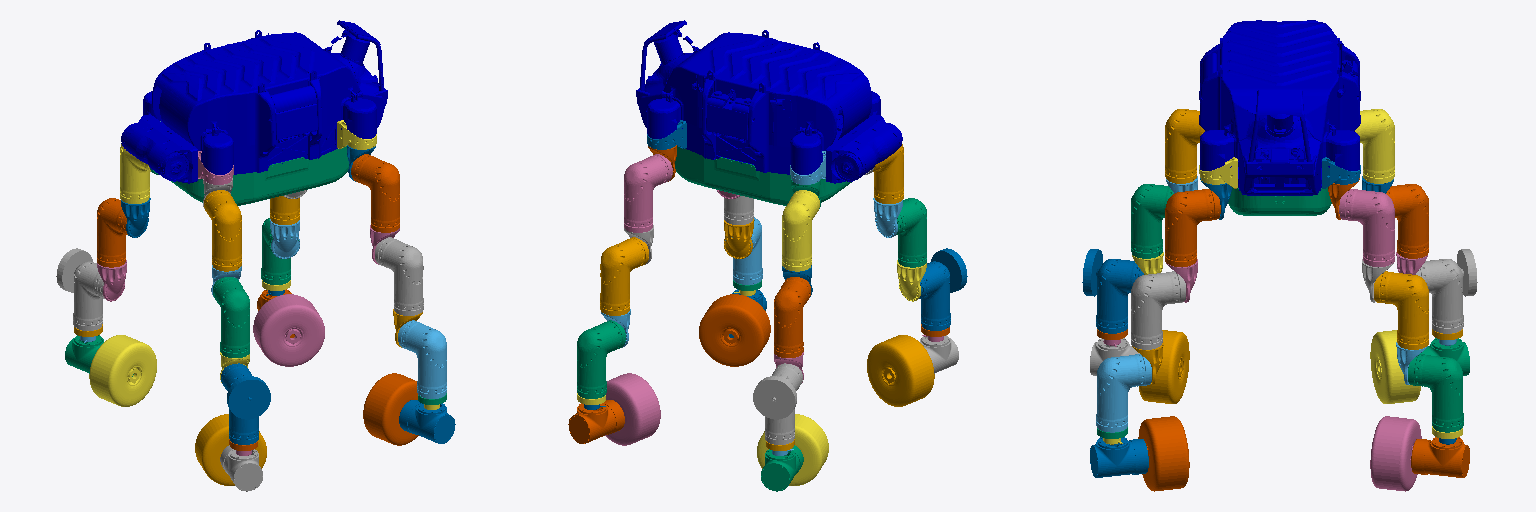
--- Facts derived from the render (not from the file) ---
Views: 3 orthographic renders of the robot side by side, from view 1: azimuth 30°, elevation 25°; view 2: azimuth 150°, elevation 25°; view 3: azimuth 270°, elevation 25°.
Robot: robosim — 47 links, 46 joints (32 revolute, 14 fixed); root link base_link; default pose: all joints at 0.
Links seen in each view (by area): view 1: torso, limb4_link8, sled, limb3_link8, limb2_link6, limb1_link8, limb3_link6, limb1_link6, limb1_link4, limb1_link2, limb2_link2, limb2_link4 (+12 smaller); view 2: torso, limb1_link8, sled, limb2_link8, limb3_link6, limb4_link8, limb2_link6, limb4_link4, limb4_link6, limb4_link2, limb3_link2, limb3_link4 (+12 smaller); view 3: torso, limb2_link6, limb3_link6, limb4_link8, limb1_link8, limb4_link2, limb1_link2, limb4_link4, limb1_link4, limb1_link6, limb4_link6, limb3_link4 (+12 smaller).
Boxes of the visible links, x1,y1,x2,y2 form: torso: [121, 20, 387, 183]; limb4_link8: [253, 294, 324, 366]; sled: [171, 146, 348, 205]; limb3_link8: [89, 335, 156, 406]; limb2_link6: [221, 363, 270, 444]; limb1_link8: [363, 373, 418, 445]; limb3_link6: [56, 248, 104, 330]; limb1_link6: [398, 320, 446, 398]; limb1_link4: [375, 237, 423, 315]; limb1_link2: [351, 154, 399, 232]; limb2_link2: [204, 190, 241, 271]; limb2_link4: [213, 277, 249, 357]; torso: [636, 20, 902, 183]; limb1_link8: [699, 294, 770, 366]; sled: [675, 146, 851, 205]; limb2_link8: [867, 335, 934, 406]; limb3_link6: [753, 363, 802, 444]; limb4_link8: [605, 373, 660, 445]; limb2_link6: [919, 248, 967, 330]; limb4_link4: [600, 237, 648, 315]; limb4_link6: [577, 320, 625, 398]; limb4_link2: [624, 154, 672, 232]; limb3_link2: [782, 190, 819, 271]; limb3_link4: [774, 277, 810, 357]; torso: [1199, 20, 1360, 195]; limb2_link6: [1082, 249, 1143, 333]; limb3_link6: [1416, 249, 1477, 333]; limb4_link8: [1370, 416, 1421, 491]; limb1_link8: [1138, 416, 1189, 491]; limb4_link2: [1339, 189, 1394, 266]; limb1_link2: [1165, 189, 1220, 266]; limb4_link4: [1374, 271, 1428, 349]; limb1_link4: [1131, 271, 1185, 349]; limb1_link6: [1096, 354, 1151, 432]; limb4_link6: [1408, 354, 1463, 432]; limb3_link4: [1386, 184, 1428, 258].
Size in the robot's own frame: 0.9518 by 1.3 by 1.45 metres.
Meshes: 10 distinct files referenced, 46 mesh visuals loaded (10 binary STL).

The robot description file, URDF, robot "robosim":
<robot name="robosim">

  <link name="base_link">
  </link>

  <joint name="base_to_torso" type="fixed">
    <parent link="base_link"/>
    <child link="torso"/>
    <origin xyz="0 0.0 0.0" rpy="3.14159 0.0 0.0"/>
  </joint>

   <link name="torso">
      <inertial>
        <mass value="46.658335" />
        <origin xyz="0.040288 -0.001937 -0.073574" rpy="0 0 0" />
        <inertia ixx="1.272134" ixy="0.008890" ixz="-0.139427" iyy="2.568776" iyz="0.000325" izz="3.086984" />
      </inertial>
      <visual>
        <origin xyz="0 0 0" rpy="0 0 0" />
        <geometry>
           <mesh filename="./stl/robosim_chassis.stl" scale="1 1 1" />
        </geometry>
        <material name="blue">
	      <color rgba="0 0 .8 1" />
        </material>
      </visual>
      <collision group="default">
        <origin rpy="0 0 0" xyz="0 0 0"/>
        <geometry>
           <box size="0.257 0.50 0.238"/>
        </geometry>
      </collision>
      <collision group="other">
        <origin rpy="0 0 0" xyz="0 0 0"/>
        <geometry>
           <box size="0.93 0.230 0.238"/>
        </geometry>
      </collision>
      <collision group="other">
        <origin rpy="0 0 -0.38153" xyz="0.25393 0.075769 0"/>
        <geometry>
           <box size="0.36257 0.23 0.238"/>
        </geometry>
      </collision>
      <collision group="other">
        <origin rpy="0 0 0.38153" xyz="-0.25393 0.075769 0"/>
        <geometry>
           <box size="0.36257 0.23 0.238"/>
        </geometry>
      </collision>
      <collision group="other">
        <origin rpy="0 0 0.38153" xyz="0.25393 -0.075769 0"/>
        <geometry>
           <box size="0.36257 0.23 0.238"/>
        </geometry>
      </collision>
      <collision group="other">
        <origin rpy="0 0 -0.38153" xyz="-0.25393 -0.075769 0"/>
        <geometry>
           <box size="0.36257 0.23 0.238"/>
        </geometry>
      </collision>
      <collision group="other">
        <origin rpy="0.000000 -0.383972 0.000000" xyz="0.417050 0.000000 -0.158640"/>
        <geometry>
          <cylinder length="0.144" radius="0.05"/>
        </geometry>
      </collision>
   </link>

   <link name="sled">
      <inertial>
        <mass value="2.768775" />
        <origin xyz="0.000000 0.000000 0.146762" rpy="0 0 0" />
        <inertia ixx="0.034856" ixy="0.000007" ixz="-0.000002" iyy="0.082427" iyz="0.000000" izz="0.105853" />
      </inertial>
      <visual>
        <origin xyz="0.000000 0 0" rpy="0 0 0" />
        <geometry>
           <mesh filename="./stl/robosim_sled.stl" scale="1 1 1" />
        </geometry>
      </visual>
      <collision group="other">
        <origin rpy="0 0 0" xyz="0 0 0"/>
        <geometry>
          <mesh filename="./stl/robosim_sled_coll.stl" scale="1 1 1" />
        </geometry>
      </collision>
   </link>

   <joint name="sled_joint" type="fixed">
      <origin xyz="0.0 0.0 0.21"  rpy="1.570796 0.00 0.00" />
      <parent link="torso" />
      <child link="sled" />
   </joint>

   <link name="limb1_link0">
      <inertial>
        <mass value="0.000000" />
        <origin xyz="0.000000 0.000000 0.000000" rpy="0 0 0" />
        <inertia ixx="0.000000" ixy="0.000000" ixz="0.000000" iyy="0.000000" iyz="0.000000" izz="0.000000" />
      </inertial>
      <visual>
        <origin xyz="0.000000 0 0" rpy="0 0 0" />
        <geometry>
           <mesh filename="./stl/robosim_fts.stl" scale="1 1 1" />
        </geometry>
      </visual>
      <collision group="other">
        <origin rpy="3.1415 -1.57080 0" xyz="-.025 0 0"/>
        <geometry>
          <cylinder length="0.145" radius="0.05"/>
        </geometry>
      </collision>
   </link>

   <link name="limb1_link1">
      <inertial>
        <mass value="0.428770" />
        <origin xyz="-0.050402 0.012816 0.000000" rpy="0 0 0" />
        <inertia ixx="0.000670" ixy="0.000062" ixz="0.000000" iyy="0.000955" iyz="0.000000" izz=" 0.000726" />
      </inertial>
      <visual>
        <origin xyz="0.000000 0 0" rpy="0 0 0" />
        <geometry>
           <mesh filename="./stl/robosim_pitch_link.stl" scale="1 1 1" />
        </geometry>
      </visual>
      <collision group="other">
        <origin rpy="3.1415 -1.57080 0" xyz="-0.07 0 0"/>
        <geometry>
          <cylinder length="0.07" radius="0.055"/>
        </geometry>
      </collision>
   </link>

   <link name="limb1_link2">
      <inertial>
        <mass value="4.078540" />
        <origin xyz="0.066970 -0.090099 -0.000084" rpy="0 0 0" />
        <inertia ixx="0.010580" ixy="-0.008765" ixz="-0.000002" iyy="0.025014" iyz="0.000007" izz="0.031182" />
      </inertial>
      <visual>
        <origin xyz="0.000000 0 0" rpy="0 0 0" />
        <geometry>
           <mesh filename="./stl/robosim_roll_link.stl" scale="1 1 1" />
        </geometry>
      </visual>
      <collision group="other">
        <origin rpy="3.1415 -1.57080 0" xyz="0.065 -0.12 0"/>
        <geometry>
          <cylinder length="0.24" radius="0.055"/>
        </geometry>
      </collision>
      <collision group="other">
        <origin rpy="1.57080 1.57080 0.0" xyz="0.0 -0.035 0"/>
        <geometry>
          <cylinder length="0.075" radius="0.055"/>
        </geometry>
      </collision>
   </link>

   <link name="limb1_link3">
      <inertial>
        <mass value="0.428770" />
        <origin xyz="-0.050402 0.012816 0.000000" rpy="0 0 0" />
        <inertia ixx="0.000670" ixy="0.000062" ixz="0.000000" iyy="0.000955" iyz="0.000000" izz=" 0.000726" />
      </inertial>
      <visual>
        <origin xyz="0.000000 0 0" rpy="0 0 0" />
        <geometry>
           <mesh filename="./stl/robosim_pitch_link.stl" scale="1 1 1" />
        </geometry>
      </visual>
      <collision group="other">
        <origin rpy="3.1415 -1.57080 0" xyz="-0.07 0 0"/>
        <geometry>
          <cylinder length="0.07" radius="0.055"/>
        </geometry>
      </collision>
   </link>

   <link name="limb1_link4">
      <inertial>
        <mass value="4.078540" />
        <origin xyz="0.066970 -0.090099 -0.000084" rpy="0 0 0" />
        <inertia ixx="0.010580" ixy="-0.008765" ixz="-0.000002" iyy="0.025014" iyz="0.000007" izz="0.031182" />
      </inertial>
      <visual>
        <origin xyz="0.000000 0 0" rpy="0 0 0" />
        <geometry>
           <mesh filename="./stl/robosim_roll_link.stl" scale="1 1 1" />
        </geometry>
      </visual>
      <collision group="other">
        <origin rpy="3.1415 -1.57080 0" xyz="0.065 -0.12 0"/>
        <geometry>
          <cylinder length="0.24" radius="0.055"/>
        </geometry>
      </collision>
      <collision group="other">
        <origin rpy="1.57080 1.57080 0.0" xyz="0.0 -0.035 0"/>
        <geometry>
          <cylinder length="0.075" radius="0.055"/>
        </geometry>
      </collision>
   </link>

   <link name="limb1_link5">
      <inertial>
        <mass value="0.428770" />
        <origin xyz="-0.050402 0.012816 0.000000" rpy="0 0 0" />
        <inertia ixx="0.000670" ixy="0.000062" ixz="0.000000" iyy="0.000955" iyz="0.000000" izz=" 0.000726" />
      </inertial>
      <visual>
        <origin xyz="0.000000 0 0" rpy="0 0 0" />
        <geometry>
           <mesh filename="./stl/robosim_pitch_link.stl" scale="1 1 1" />
        </geometry>
      </visual>
      <collision group="other">
        <origin rpy="3.1415 -1.57080 0" xyz="-0.07 0 0"/>
        <geometry>
          <cylinder length="0.07" radius="0.055"/>
        </geometry>
      </collision>
   </link>

   <link name="limb1_link6">
      <inertial>
        <mass value="4.078540" />
        <origin xyz="0.066970 -0.090099 -0.000084" rpy="0 0 0" />
        <inertia ixx="0.010580" ixy="-0.008765" ixz="-0.000002" iyy="0.025014" iyz="0.000007" izz="0.031182" />
      </inertial>
      <visual>
        <origin xyz="0.000000 0 0" rpy="0 0 0" />
        <geometry>
           <mesh filename="./stl/robosim_roll_link.stl" scale="1 1 1" />
        </geometry>
      </visual>
      <collision group="other">
        <origin rpy="3.1415 -1.57080 0" xyz="0.105 -0.12 0"/>
        <geometry>
          <cylinder length="0.32" radius="0.055"/>
        </geometry>
      </collision>
      <collision group="other">
        <origin rpy="1.57080 1.57080 0.0" xyz="0.0 -0.035 0"/>
        <geometry>
          <cylinder length="0.075" radius="0.055"/>
        </geometry>
      </collision>
   </link>
  
   <link name="limb1_ftadapter_link">
      <inertial>
        <mass value="0.253735" />
        <origin xyz="-0.00531 -0.00060 -0.001873" rpy="0 0 0" />
        <inertia ixx="0.00042" ixy="0.00000" ixz="0.0000" iyy="0.00024" iyz="0.00000" izz="0.00023" />
      </inertial>
      <visual>
         <origin xyz="0 0 0" rpy="0 0 0" />
         <geometry>
            <mesh filename="./stl/robosim_ft_adapter.stl" scale="1 1 1" />
         </geometry>
      </visual>   
   </link>

   <link name="limb1_ft_link">
      <inertial>
        <mass value="0.195418" />
        <origin xyz="-0.000135 0.000118 0.000084" rpy="0 0 0" />
        <inertia ixx="0.000086" ixy="0.000" ixz="0.0000" iyy="0.000056" iyz="0.000000" izz="0.000057" />
      </inertial>
      <visual>
         <origin xyz="0 0 0" rpy="0 0 0" />
         <geometry>
            <mesh filename="./stl/robosim_force_torque_sensor.stl" scale="1 1 1" />
         </geometry>
      </visual>   
   </link>

   <link name="limb1_link7">
      <inertial>
        <mass value="3.1775" />
        <origin xyz="-0.005260 0.042308 0.000088" rpy="0 0 0" />
        <inertia ixx="0.010977" ixy="0.000702" ixz="0.000026" iyy="0.005330" iyz="-0.000028" izz=" 0.011405" />
      </inertial>
      <visual>
        <origin xyz="0.12024 0 0" rpy="0 0 0" />
        <geometry>
           <mesh filename="./stl/robosim_wheel_mount.stl" scale="1 1 1" />
        </geometry>
      </visual>
      <collision group="other">
        <origin rpy="-1.57080 0 0" xyz="0.12024 0.02 0"/>
        <geometry>
          <cylinder length="0.175" radius="0.0545"/>
        </geometry>
      </collision>
   </link>

  <link name="limb1_link8">
    <inertial>
      <mass value="1.499326" />
      <origin xyz="0.0 0.0 -0.000229" rpy="0 0 0" />
      <inertia ixx="0.006378" ixy="0.000000" ixz="0.000000" iyy="0.006377" iyz="0.000000" izz="0.009155" />
     </inertial>
    <visual>
      <origin xyz="0.0 0 0" rpy="0 0 0" />
      <geometry>
         <mesh filename="./stl/robosim_wheel.stl" scale="1 1 1" />
      </geometry>
    </visual>
    <collision group="other">
      <origin xyz="0.0 0 0" rpy="0 0 0" />
      <geometry>
         <cylinder length="0.123" radius="0.12" />
      </geometry>
    </collision>
  </link>

   <joint name="limb1_joint0" type="fixed" >
      <origin xyz="0.29326 0.20940 0.03650"  rpy="0.00000 -1.57080 -0.26180" />
      <parent link="torso" />
      <child link="limb1_link0" />
      <axis xyz="0 0 1" />
      <limit effort="1000.0" lower="-3.4906" upper="3.4906" velocity="0.5"/>
      <dynamics damping="0" friction="0"/>
   </joint>

   <joint name="limb1_joint1" type="revolute">
      <origin xyz="0.17203 0.00000 0.00000"  rpy="3.14159 -0.00000 0.00000" />
      <axis xyz="1 0 0" />
      <parent link="limb1_link0" />
      <child link="limb1_link1" />
      <limit effort="1000.0" lower="-6.283185" upper="6.283185" velocity="0.5"/>
      <dynamics damping="1.000000" friction="10.000000"/>
   </joint>

   <joint name="limb1_joint2" type="revolute">
      <origin xyz="0.00000 0.00000 0.00000"  rpy="0.00000 -0.00000 0.00000" />
      <axis xyz="0 -1 0" />
      <parent link="limb1_link1" />
      <child link="limb1_link2" />
      <limit effort="1000.0" lower="-6.283185" upper="6.283185" velocity="0.5"/>
      <dynamics damping="1.000000" friction="10.000000"/>
   </joint>

   <joint name="limb1_joint3" type="revolute">
      <origin xyz="0.28650 -0.11700 0.00000"  rpy="0.00000 -0.00000 0.00000" />
      <axis xyz="1 0 0" />
      <parent link="limb1_link2" />
      <child link="limb1_link3" />
      <limit effort="1000.0" lower="-6.283185" upper="6.283185" velocity="0.5"/>
      <dynamics damping="1.000000" friction="10.000000"/>
   </joint>

   <joint name="limb1_joint4" type="revolute">
      <origin xyz="0.00000 0.00000 0.00000"  rpy="0.00000 -0.00000 0.00000" />
      <axis xyz="0 -1 0" />
      <parent link="limb1_link3" />
      <child link="limb1_link4" />
      <limit effort="1000.0" lower="-6.283185" upper="6.283185" velocity="0.5"/>
      <dynamics damping="1.000000" friction="10.000000"/>
   </joint>

   <joint name="limb1_joint5" type="revolute">
      <origin xyz="0.28650 -0.11700 0.00000"  rpy="0.00000 -0.00000 0.00000" />
      <axis xyz="1 0 0" />
      <parent link="limb1_link4" />
      <child link="limb1_link5" />
      <limit effort="1000.0" lower="-6.283185" upper="6.283185" velocity="0.5"/>
      <dynamics damping="1.000000" friction="10.000000"/>
   </joint>

   <joint name="limb1_joint6" type="revolute">
      <origin xyz="0.00000 0.00000 0.00000"  rpy="0.00000 -0.00000 0.00000" />
      <axis xyz="0 -1 0" />
      <parent link="limb1_link5" />
      <child link="limb1_link6" />
      <limit effort="1000.0" lower="-6.283185" upper="6.283185" velocity="0.5"/>
      <dynamics damping="1.000000" friction="10.000000"/>
   </joint>
  
   <joint name="limb1_ftadapter_joint" type="fixed">
      <origin xyz="0.20739 -0.121 0.0"  rpy="0.00000 0.00000 0.00000" />
      <axis xyz="1 0 0" />
      <parent link="limb1_link6" />
      <child link="limb1_ftadapter_link" />
   </joint>  

   <joint name="limb1_ft_joint" type="fixed">
      <origin xyz="0.0263755 0.0 0.0"  rpy="0.00000 0.00000 0.00000" />
      <axis xyz="1 0 0" />
      <parent link="limb1_ftadapter_link" />
      <child link="limb1_ft_link" />
   </joint>

   <joint name="limb1_joint7" type="revolute">
      <origin xyz="0.19250 -0.11700 0.00000"  rpy="0.00000 -0.00000 0.00000" />
      <axis xyz="1 0 0" />
      <parent link="limb1_link6" />
      <child link="limb1_link7" />
      <limit effort="1000.0" lower="-6.283185" upper="6.283185" velocity="0.5"/>
      <dynamics damping="1.000000" friction="10.000000"/>
   </joint>

   <joint name="limb1_joint8" type="revolute">
      <origin xyz="0.12024 0.172 0.0"  rpy="-1.57 0.0 0.00" />
      <axis xyz="0 0 1" />
      <parent link="limb1_link7" />
      <child link="limb1_link8" />
      <limit effort="1000.0" lower="-2e19" upper="2e19" velocity="0.5"/>
      <dynamics damping="1.000000" friction="10.000000"/>
   </joint>

   <link name="limb2_link0">
      <inertial>
        <mass value="0.000000" />
        <origin xyz="0.000000 0.000000 0.000000" rpy="0 0 0" />
        <inertia ixx="0.000000" ixy="0.000000" ixz="0.000000" iyy="0.000000" iyz="0.000000" izz="0.000000" />
      </inertial>
      <visual>
        <origin xyz="0.000000 0 0" rpy="0 0 0" />
        <geometry>
           <mesh filename="./stl/robosim_fts.stl" scale="1 1 1" />
        </geometry>
      </visual>
      <collision group="other">
        <origin rpy="3.1415 -1.57080 0" xyz="-.025 0 0"/>
        <geometry>
          <cylinder length="0.145" radius="0.05"/>
        </geometry>
      </collision>
   </link>

   <link name="limb2_link1">
      <inertial>
        <mass value="0.428770" />
        <origin xyz="-0.050402 0.012816 0.000000" rpy="0 0 0" />
        <inertia ixx="0.000670" ixy="0.000062" ixz="0.000000" iyy="0.000955" iyz="0.000000" izz=" 0.000726" />
      </inertial>
      <visual>
        <origin xyz="0.000000 0 0" rpy="0 0 0" />
        <geometry>
           <mesh filename="./stl/robosim_pitch_link.stl" scale="1 1 1" />
        </geometry>
      </visual>
      <collision group="other">
        <origin rpy="3.1415 -1.57080 0" xyz="-0.07 0 0"/>
        <geometry>
          <cylinder length="0.07" radius="0.055"/>
        </geometry>
      </collision>
   </link>

   <link name="limb2_link2">
      <inertial>
        <mass value="4.078540" />
        <origin xyz="0.066970 -0.090099 -0.000084" rpy="0 0 0" />
        <inertia ixx="0.010580" ixy="-0.008765" ixz="-0.000002" iyy="0.025014" iyz="0.000007" izz="0.031182" />
      </inertial>
      <visual>
        <origin xyz="0.000000 0 0" rpy="0 0 0" />
        <geometry>
           <mesh filename="./stl/robosim_roll_link.stl" scale="1 1 1" />
        </geometry>
      </visual>
      <collision group="other">
        <origin rpy="3.1415 -1.57080 0" xyz="0.065 -0.12 0"/>
        <geometry>
          <cylinder length="0.24" radius="0.055"/>
        </geometry>
      </collision>
      <collision group="other">
        <origin rpy="1.57080 1.57080 0.0" xyz="0.0 -0.035 0"/>
        <geometry>
          <cylinder length="0.075" radius="0.055"/>
        </geometry>
      </collision>
   </link>

   <link name="limb2_link3">
      <inertial>
        <mass value="0.428770" />
        <origin xyz="-0.050402 0.012816 0.000000" rpy="0 0 0" />
        <inertia ixx="0.000670" ixy="0.000062" ixz="0.000000" iyy="0.000955" iyz="0.000000" izz=" 0.000726" />
      </inertial>
      <visual>
        <origin xyz="0.000000 0 0" rpy="0 0 0" />
        <geometry>
           <mesh filename="./stl/robosim_pitch_link.stl" scale="1 1 1" />
        </geometry>
      </visual>
      <collision group="other">
        <origin rpy="3.1415 -1.57080 0" xyz="-0.07 0 0"/>
        <geometry>
          <cylinder length="0.07" radius="0.055"/>
        </geometry>
      </collision>
   </link>

   <link name="limb2_link4">
      <inertial>
        <mass value="4.078540" />
        <origin xyz="0.066970 -0.090099 -0.000084" rpy="0 0 0" />
        <inertia ixx="0.010580" ixy="-0.008765" ixz="-0.000002" iyy="0.025014" iyz="0.000007" izz="0.031182" />
      </inertial>
      <visual>
        <origin xyz="0.000000 0 0" rpy="0 0 0" />
        <geometry>
           <mesh filename="./stl/robosim_roll_link.stl" scale="1 1 1" />
        </geometry>
      </visual>
      <collision group="other">
        <origin rpy="3.1415 -1.57080 0" xyz="0.065 -0.12 0"/>
        <geometry>
          <cylinder length="0.24" radius="0.055"/>
        </geometry>
      </collision>
      <collision group="other">
        <origin rpy="1.57080 1.57080 0.0" xyz="0.0 -0.035 0"/>
        <geometry>
          <cylinder length="0.075" radius="0.055"/>
        </geometry>
      </collision>
   </link>

   <link name="limb2_link5">
      <inertial>
        <mass value="0.428770" />
        <origin xyz="-0.050402 0.012816 0.000000" rpy="0 0 0" />
        <inertia ixx="0.000670" ixy="0.000062" ixz="0.000000" iyy="0.000955" iyz="0.000000" izz=" 0.000726" />
      </inertial>
      <visual>
        <origin xyz="0.000000 0 0" rpy="0 0 0" />
        <geometry>
           <mesh filename="./stl/robosim_pitch_link.stl" scale="1 1 1" />
        </geometry>
      </visual>
      <collision group="other">
        <origin rpy="3.1415 -1.57080 0" xyz="-0.07 0 0"/>
        <geometry>
          <cylinder length="0.07" radius="0.055"/>
        </geometry>
      </collision>
   </link>

   <link name="limb2_link6">
      <inertial>
        <mass value="4.078540" />
        <origin xyz="0.066970 -0.090099 -0.000084" rpy="0 0 0" />
        <inertia ixx="0.010580" ixy="-0.008765" ixz="-0.000002" iyy="0.025014" iyz="0.000007" izz="0.031182" />
      </inertial>
      <visual>
        <origin xyz="0.000000 0 0" rpy="0 0 0" />
        <geometry>
           <mesh filename="./stl/robosim_roll_link_w_wheel.stl" scale="1 1 1" />
        </geometry>
      </visual>
      <collision group="other">
        <origin rpy="3.1415 -1.57080 0" xyz="0.105 -0.12 0"/>
        <geometry>
          <cylinder length="0.32" radius="0.055"/>
        </geometry>
      </collision>
      <collision group="other">
        <origin rpy="1.57080 1.57080 0.0" xyz="0.0 -0.035 0"/>
        <geometry>
          <cylinder length="0.075" radius="0.055"/>
        </geometry>
      </collision>
      <collision group="other">
        <origin rpy="1.57080 1.57080 0.0" xyz="0.0 -0.19 0"/>
        <geometry>
          <cylinder length="0.0375" radius="0.080"/>
        </geometry>
      </collision>
   </link>
   
   <link name="limb2_ftadapter_link">
      <inertial>
        <mass value="0.253735" />
        <origin xyz="-0.00531 -0.00060 -0.001873" rpy="0 0 0" />
        <inertia ixx="0.00042" ixy="0.00000" ixz="0.0000" iyy="0.00024" iyz="0.00000" izz="0.00023" />
      </inertial>
      <visual>
         <origin xyz="0 0 0" rpy="0 0 0" />
         <geometry>
            <mesh filename="./stl/robosim_ft_adapter.stl" scale="1 1 1" />
         </geometry>
      </visual>   
   </link>

   <link name="limb2_ft_link">
      <inertial>
        <mass value="0.195418" />
        <origin xyz="-0.000135 0.000118 0.000084" rpy="0 0 0" />
        <inertia ixx="0.000086" ixy="0.000" ixz="0.0000" iyy="0.000056" iyz="0.000000" izz="0.000057" />
      </inertial>
      <visual>
         <origin xyz="0 0 0" rpy="0 0 0" />
         <geometry>
            <mesh filename="./stl/robosim_force_torque_sensor.stl" scale="1 1 1" />
         </geometry>
      </visual>   
   </link>
   
   <link name="limb2_link7">
      <inertial>
        <mass value="3.1775" />
        <origin xyz="-0.005260 0.042308 0.000088" rpy="0 0 0" />
        <inertia ixx="0.010977" ixy="0.000702" ixz="0.000026" iyy="0.005330" iyz="-0.000028" izz=" 0.011405" />
      </inertial>
      <visual>
        <origin xyz="0.12024 0 0" rpy="0 0 0" />
        <geometry>
           <mesh filename="./stl/robosim_wheel_mount.stl" scale="1 1 1" />
        </geometry>
      </visual>
      <collision group="other">
        <origin rpy="-1.57080 0 0" xyz="0.12024 0.02 0"/>
        <geometry>
          <cylinder length="0.175" radius="0.0545"/>
        </geometry>
      </collision>
   </link>

  <link name="limb2_link8">
    <inertial>
      <mass value="1.499326" />
      <origin xyz="0.0 0.0 -0.000229" rpy="0 0 0" />
      <inertia ixx="0.006378" ixy="0.000000" ixz="0.000000" iyy="0.006377" iyz="0.000000" izz="0.009155" />
    </inertial>
    <visual>
      <origin xyz="0.0 0 0" rpy="0 0 0" />
      <geometry>
         <mesh filename="./stl/robosim_wheel.stl" scale="1 1 1" />
      </geometry>
    </visual>
    <collision group="other">
      <origin xyz="0.0 0 0" rpy="0 0 0" />
      <geometry>
         <cylinder length="0.123" radius="0.12" />
      </geometry>
    </collision>
  </link>

   <joint name="limb2_joint0" type="fixed">
      <origin xyz="-0.29326 0.20940 0.03650"  rpy="0.00000 -1.57080 0.26180" />
      <parent link="torso" />
      <child link="limb2_link0" />
      <axis xyz="0 0 1" />
      <limit effort="1000.0" lower="-3.4906" upper="3.4906" velocity="0.5"/>
      <dynamics damping="0" friction="0"/>
   </joint>

   <joint name="limb2_joint1" type="revolute">
      <origin xyz="0.17203 0.00000 0.00000"  rpy="3.14159 -0.00000 0.00000" />
      <axis xyz="1 0 0" />
      <parent link="limb2_link0" />
      <child link="limb2_link1" />
      <limit effort="1000.0" lower="-6.283185" upper="6.283185" velocity="0.5"/>
      <dynamics damping="1.000000" friction="10.000000"/>
   </joint>

   <joint name="limb2_joint2" type="revolute">
      <origin xyz="0.00000 0.00000 0.00000"  rpy="0.00000 -0.00000 0.00000" />
      <axis xyz="0 -1 0" />
      <parent link="limb2_link1" />
      <child link="limb2_link2" />
      <limit effort="1000.0" lower="-6.283185" upper="6.283185" velocity="0.5"/>
      <dynamics damping="1.000000" friction="10.000000"/>
   </joint>

   <joint name="limb2_joint3" type="revolute">
      <origin xyz="0.28650 -0.11700 0.00000"  rpy="0.00000 -0.00000 0.00000" />
      <axis xyz="1 0 0" />
      <parent link="limb2_link2" />
      <child link="limb2_link3" />
      <limit effort="1000.0" lower="-6.283185" upper="6.283185" velocity="0.5"/>
      <dynamics damping="1.000000" friction="10.000000"/>
   </joint>

   <joint name="limb2_joint4" type="revolute">
      <origin xyz="0.00000 0.00000 0.00000"  rpy="0.00000 -0.00000 0.00000" />
      <axis xyz="0 -1 0" />
      <parent link="limb2_link3" />
      <child link="limb2_link4" />
      <limit effort="1000.0" lower="-6.283185" upper="6.283185" velocity="0.5"/>
      <dynamics damping="1.000000" friction="10.000000"/>
   </joint>

   <joint name="limb2_joint5" type="revolute">
      <origin xyz="0.28650 -0.11700 0.00000"  rpy="0.00000 -0.00000 0.00000" />
      <axis xyz="1 0 0" />
      <parent link="limb2_link4" />
      <child link="limb2_link5" />
      <limit effort="1000.0" lower="-6.283185" upper="6.283185" velocity="0.5"/>
      <dynamics damping="1.000000" friction="10.000000"/>
   </joint>
  
   <joint name="limb2_joint6" type="revolute">
      <origin xyz="0.00000 0.00000 0.00000"  rpy="0.00000 -0.00000 0.00000" />
      <axis xyz="0 -1 0" />
      <parent link="limb2_link5" />
      <child link="limb2_link6" />
      <limit effort="1000.0" lower="-6.283185" upper="6.283185" velocity="0.5"/>
      <dynamics damping="1.000000" friction="10.000000"/>
   </joint>

   <joint name="limb2_ftadapter_joint" type="fixed">
      <origin xyz="0.20739 -0.121 0.0"  rpy="0.00000 0.00000 0.00000" />
      <axis xyz="1 0 0" />
      <parent link="limb2_link6" />
      <child link="limb2_ftadapter_link" />
   </joint>  

   <joint name="limb2_ft_joint" type="fixed">
      <origin xyz="0.0263755 0.0 0.0"  rpy="0.00000 0.00000 0.00000" />
      <axis xyz="1 0 0" />
      <parent link="limb2_ftadapter_link" />
      <child link="limb2_ft_link" />
   </joint>

   <joint name="limb2_joint7" type="revolute">
      <origin xyz="0.19250 -0.11700 0.00000"  rpy="0.00000 -0.00000 0.00000" />
      <axis xyz="1 0 0" />
      <parent link="limb2_link6" />
      <child link="limb2_link7" />
      <limit effort="1000.0" lower="-6.283185" upper="6.283185" velocity="0.5"/>
      <dynamics damping="1.000000" friction="10.000000"/>
   </joint>

   <joint name="limb2_joint8" type="revolute">
      <origin xyz="0.12024 0.172 0.0"  rpy="-1.57 0.0 0.00" />
      <axis xyz="0 0 1" />
      <parent link="limb2_link7" />
      <child link="limb2_link8" />
      <limit effort="1000.0" lower="-2e19" upper="2e19" velocity="0.5"/>
      <dynamics damping="1.000000" friction="10.000000"/>
   </joint>


  <link name="limb3_link0">
      <inertial>
        <mass value="0.000000" />
        <origin xyz="0.000000 0.000000 0.000000" rpy="0 0 0" />
        <inertia ixx="0.000000" ixy="0.000000" ixz="0.000000" iyy="0.000000" iyz="0.000000" izz="0.000000" />
      </inertial>
      <visual>
        <origin xyz="0.000000 0 0" rpy="0 0 0" />
        <geometry>
           <mesh filename="./stl/robosim_fts.stl" scale="1 1 1" />
        </geometry>
      </visual>
      <collision group="other">
        <origin rpy="3.1415 -1.57080 0" xyz="-.025 0 0"/>
        <geometry>
          <cylinder length="0.145" radius="0.05"/>
        </geometry>
      </collision>
   </link>

   <link name="limb3_link1">
      <inertial>
        <mass value="0.428770" />
        <origin xyz="-0.050402 0.012816 0.000000" rpy="0 0 0" />
        <inertia ixx="0.000670" ixy="0.000062" ixz="0.000000" iyy="0.000955" iyz="0.000000" izz=" 0.000726" />
      </inertial>
      <visual>
        <origin xyz="0.000000 0 0" rpy="0 0 0" />
        <geometry>
           <mesh filename="./stl/robosim_pitch_link.stl" scale="1 1 1" />
        </geometry>
      </visual>
      <collision group="other">
        <origin rpy="3.1415 -1.57080 0" xyz="-0.07 0 0"/>
        <geometry>
          <cylinder length="0.07" radius="0.055"/>
        </geometry>
      </collision>
   </link>

   <link name="limb3_link2">
      <inertial>
        <mass value="4.078540" />
        <origin xyz="0.066970 -0.090099 -0.000084" rpy="0 0 0" />
        <inertia ixx="0.010580" ixy="-0.008765" ixz="-0.000002" iyy="0.025014" iyz="0.000007" izz="0.031182" />
      </inertial>
      <visual>
        <origin xyz="0.000000 0 0" rpy="0 0 0" />
        <geometry>
           <mesh filename="./stl/robosim_roll_link.stl" scale="1 1 1" />
        </geometry>
      </visual>
      <collision group="other">
        <origin rpy="3.1415 -1.57080 0" xyz="0.065 -0.12 0"/>
        <geometry>
          <cylinder length="0.24" radius="0.055"/>
        </geometry>
      </collision>
      <collision group="other">
        <origin rpy="1.57080 1.57080 0.0" xyz="0.0 -0.035 0"/>
        <geometry>
          <cylinder length="0.075" radius="0.055"/>
        </geometry>
      </collision>
   </link>

   <link name="limb3_link3">
      <inertial>
        <mass value="0.428770" />
        <origin xyz="-0.050402 0.012816 0.000000" rpy="0 0 0" />
        <inertia ixx="0.000670" ixy="0.000062" ixz="0.000000" iyy="0.000955" iyz="0.000000" izz=" 0.000726" />
      </inertial>
      <visual>
        <origin xyz="0.000000 0 0" rpy="0 0 0" />
        <geometry>
           <mesh filename="./stl/robosim_pitch_link.stl" scale="1 1 1" />
        </geometry>
      </visual>
      <collision group="other">
        <origin rpy="3.1415 -1.57080 0" xyz="-0.07 0 0"/>
        <geometry>
          <cylinder length="0.07" radius="0.055"/>
        </geometry>
      </collision>
   </link>

   <link name="limb3_link4">
      <inertial>
        <mass value="4.078540" />
        <origin xyz="0.066970 -0.090099 -0.000084" rpy="0 0 0" />
        <inertia ixx="0.010580" ixy="-0.008765" ixz="-0.000002" iyy="0.025014" iyz="0.000007" izz="0.031182" />
      </inertial>
      <visual>
        <origin xyz="0.000000 0 0" rpy="0 0 0" />
        <geometry>
           <mesh filename="./stl/robosim_roll_link.stl" scale="1 1 1" />
        </geometry>
      </visual>
      <collision group="other">
        <origin rpy="3.1415 -1.57080 0" xyz="0.065 -0.12 0"/>
        <geometry>
          <cylinder length="0.24" radius="0.055"/>
        </geometry>
      </collision>
      <collision group="other">
        <origin rpy="1.57080 1.57080 0.0" xyz="0.0 -0.035 0"/>
        <geometry>
          <cylinder length="0.075" radius="0.055"/>
        </geometry>
      </collision>
   </link>

   <link name="limb3_link5">
      <inertial>
        <mass value="0.428770" />
        <origin xyz="-0.050402 0.012816 0.000000" rpy="0 0 0" />
        <inertia ixx="0.000670" ixy="0.000062" ixz="0.000000" iyy="0.000955" iyz="0.000000" izz=" 0.000726" />
      </inertial>
      <visual>
        <origin xyz="0.000000 0 0" rpy="0 0 0" />
        <geometry>
           <mesh filename="./stl/robosim_pitch_link.stl" scale="1 1 1" />
        </geometry>
      </visual>
      <collision group="other">
        <origin rpy="3.1415 -1.57080 0" xyz="-0.07 0 0"/>
        <geometry>
          <cylinder length="0.07" radius="0.055"/>
        </geometry>
      </collision>
   </link>

   <link name="limb3_link6">
      <inertial>
        <mass value="4.078540" />
        <origin xyz="0.066970 -0.090099 -0.000084" rpy="0 0 0" />
        <inertia ixx="0.010580" ixy="-0.008765" ixz="-0.000002" iyy="0.025014" iyz="0.000007" izz="0.031182" />
      </inertial>
      <visual>
        <origin xyz="0.000000 0 0" rpy="0 0 0" />
        <geometry>
           <mesh filename="./stl/robosim_roll_link_w_wheel.stl" scale="1 1 1" />
        </geometry>
      </visual>
      <collision group="other">
        <origin rpy="3.1415 -1.57080 0" xyz="0.105 -0.12 0"/>
        <geometry>
          <cylinder length="0.32" radius="0.055"/>
        </geometry>
      </collision>
      <collision group="other">
        <origin rpy="1.57080 1.57080 0.0" xyz="0.0 -0.035 0"/>
        <geometry>
          <cylinder length="0.075" radius="0.055"/>
        </geometry>
      </collision>
      <collision group="other">
        <origin rpy="1.57080 1.57080 0.0" xyz="0.0 -0.19 0"/>
        <geometry>
          <cylinder length="0.0375" radius="0.080"/>
        </geometry>
      </collision>
   </link>
   
   <link name="limb3_ftadapter_link">
      <inertial>
        <mass value="0.253735" />
        <origin xyz="-0.00531 -0.00060 -0.001873" rpy="0 0 0" />
        <inertia ixx="0.00042" ixy="0.00000" ixz="0.0000" iyy="0.00024" iyz="0.00000" izz="0.00023" />
      </inertial>
      <visual>
         <origin xyz="0 0 0" rpy="0 0 0" />
         <geometry>
            <mesh filename="./stl/robosim_ft_adapter.stl" scale="1 1 1" />
         </geometry>
      </visual>   
   </link>

   <link name="limb3_ft_link">
      <inertial>
        <mass value="0.195418" />
        <origin xyz="-0.000135 0.000118 0.000084" rpy="0 0 0" />
        <inertia ixx="0.000086" ixy="0.000" ixz="0.0000" iyy="0.000056" iyz="0.000000" izz="0.000057" />
      </inertial>
      <visual>
         <origin xyz="0 0 0" rpy="0 0 0" />
         <geometry>
            <mesh filename="./stl/robosim_force_torque_sensor.stl" scale="1 1 1" />
         </geometry>
      </visual>
   </link>

   <link name="limb3_link7">
      <inertial>
        <mass value="3.1775" />
        <origin xyz="-0.005260 0.042308 0.000088" rpy="0 0 0" />
        <inertia ixx="0.010977" ixy="0.000702" ixz="0.000026" iyy="0.005330" iyz="-0.000028" izz=" 0.011405" />
      </inertial>
      <visual>
        <origin xyz="0.12024 0 0" rpy="0 0 0" />
        <geometry>
           <mesh filename="./stl/robosim_wheel_mount.stl" scale="1 1 1" />
        </geometry>
      </visual>
      <collision group="other">
        <origin rpy="-1.57080 0 0" xyz="0.12024 0.02 0"/>
        <geometry>
          <cylinder length="0.175" radius="0.0545"/>
        </geometry>
      </collision>
   </link>

  <link name="limb3_link8">
    <inertial>
      <mass value="1.499326" />
      <origin xyz="0.0 0.0 -0.000229" rpy="0 0 0" />
      <inertia ixx="0.006378" ixy="0.000000" ixz="0.000000" iyy="0.006377" iyz="0.000000" izz="0.009155" />
    </inertial>
    <visual>
      <origin xyz="0.0 0 0" rpy="0 0 0" />
      <geometry>
         <mesh filename="./stl/robosim_wheel.stl" scale="1 1 1" />
      </geometry>
    </visual>
    <collision group="other">
      <origin xyz="0.0 0 0" rpy="0 0 0" />
      <geometry>
         <cylinder length="0.123" radius="0.12" />
      </geometry>
    </collision>
  </link>

   <joint name="limb3_joint0" type="fixed">
      <origin xyz="-0.29326 -0.20940 0.03650"  rpy="0.00000 -1.57080 2.87979" />
      <parent link="torso" />
      <child link="limb3_link0" />
      <axis xyz="0 0 1" />
      <limit effort="1000.0" lower="-3.4906" upper="3.4906" velocity="0.5"/>
      <dynamics damping="0" friction="0"/>
   </joint>

   <joint name="limb3_joint1" type="revolute">
      <origin xyz="0.17203 0.00000 0.00000"  rpy="3.14159 -0.00000 0.00000" />
      <axis xyz="1 0 0" />
      <parent link="limb3_link0" />
      <child link="limb3_link1" />
      <limit effort="1000.0" lower="-6.283185" upper="6.283185" velocity="0.5"/>
      <dynamics damping="1.000000" friction="10.000000"/>
   </joint>

   <joint name="limb3_joint2" type="revolute">
      <origin xyz="0.00000 0.00000 0.00000"  rpy="0.00000 -0.00000 0.00000" />
      <axis xyz="0 -1 0" />
      <parent link="limb3_link1" />
      <child link="limb3_link2" />
      <limit effort="1000.0" lower="-6.283185" upper="6.283185" velocity="0.5"/>
      <dynamics damping="1.000000" friction="10.000000"/>
   </joint>

   <joint name="limb3_joint3" type="revolute">
      <origin xyz="0.28650 -0.11700 0.00000"  rpy="0.00000 -0.00000 0.00000" />
      <axis xyz="1 0 0" />
      <parent link="limb3_link2" />
      <child link="limb3_link3" />
      <limit effort="1000.0" lower="-6.283185" upper="6.283185" velocity="0.5"/>
      <dynamics damping="1.000000" friction="10.000000"/>
   </joint>

   <joint name="limb3_joint4" type="revolute">
      <origin xyz="0.00000 0.00000 0.00000"  rpy="0.00000 -0.00000 0.00000" />
      <axis xyz="0 -1 0" />
      <parent link="limb3_link3" />
      <child link="limb3_link4" />
      <limit effort="1000.0" lower="-6.283185" upper="6.283185" velocity="0.5"/>
      <dynamics damping="1.000000" friction="10.000000"/>
   </joint>

   <joint name="limb3_joint5" type="revolute">
      <origin xyz="0.28650 -0.11700 0.00000"  rpy="0.00000 -0.00000 0.00000" />
      <axis xyz="1 0 0" />
      <parent link="limb3_link4" />
      <child link="limb3_link5" />
      <limit effort="1000.0" lower="-6.283185" upper="6.283185" velocity="0.5"/>
      <dynamics damping="1.000000" friction="10.000000"/>
   </joint>

   <joint name="limb3_joint6" type="revolute">
      <origin xyz="0.00000 0.00000 0.00000"  rpy="0.00000 -0.00000 0.00000" />
      <axis xyz="0 -1 0" />
      <parent link="limb3_link5" />
      <child link="limb3_link6" />
      <limit effort="1000.0" lower="-6.283185" upper="6.283185" velocity="0.5"/>
      <dynamics damping="1.000000" friction="10.000000"/>
   </joint>
   
   <joint name="limb3_ftadapter_joint" type="fixed">
      <origin xyz="0.20739 -0.121 0.0"  rpy="0.00000 0.00000 0.00000" />
      <axis xyz="1 0 0" />
      <parent link="limb3_link6" />
      <child link="limb3_ftadapter_link" />
   </joint>  

   <joint name="limb3_ft_joint" type="fixed">
      <origin xyz="0.0263755 0.0 0.0"  rpy="0.00000 0.00000 0.00000" />
      <axis xyz="1 0 0" />
      <parent link="limb3_ftadapter_link" />
      <child link="limb3_ft_link" />
   </joint>

   <joint name="limb3_joint7" type="revolute">
      <origin xyz="0.19250 -0.11700 0.00000"  rpy="0.00000 -0.00000 0.00000" />
      <axis xyz="1 0 0" />
      <parent link="limb3_link6" />
      <child link="limb3_link7" />
      <limit effort="1000.0" lower="-6.283185" upper="6.283185" velocity="0.5"/>
      <dynamics damping="1.000000" friction="10.000000"/>
   </joint>

   <joint name="limb3_joint8" type="revolute">
      <origin xyz="0.12024 0.172 0.0"  rpy="-1.57 0.0 0.00" />
      <axis xyz="0 0 1" />
      <parent link="limb3_link7" />
      <child link="limb3_link8" />
      <limit effort="1000.0" lower="-2e19" upper="2e19" velocity="0.5"/>
      <dynamics damping="1.000000" friction="10.000000"/>
   </joint>

   <link name="limb4_link0">
      <inertial>
        <mass value="0.000000" />
        <origin xyz="0.000000 0.000000 0.000000" rpy="0 0 0" />
        <inertia ixx="0.000000" ixy="0.000000" ixz="0.000000" iyy="0.000000" iyz="0.000000" izz="0.000000" />
      </inertial>
      <visual>
        <origin xyz="0.000000 0 0" rpy="0 0 0" />
        <geometry>
           <mesh filename="./stl/robosim_fts.stl" scale="1 1 1" />
        </geometry>
      </visual>
      <collision group="other">
        <origin rpy="3.1415 -1.57080 0" xyz="-.025 0 0"/>
        <geometry>
          <cylinder length="0.145" radius="0.05"/>
        </geometry>
      </collision>
   </link>

   <link name="limb4_link1">
      <inertial>
        <mass value="0.428770" />
        <origin xyz="-0.050402 0.012816 0.000000" rpy="0 0 0" />
        <inertia ixx="0.000670" ixy="0.000062" ixz="0.000000" iyy="0.000955" iyz="0.000000" izz=" 0.000726" />
      </inertial>
      <visual>
        <origin xyz="0.000000 0 0" rpy="0 0 0" />
        <geometry>
           <mesh filename="./stl/robosim_pitch_link.stl" scale="1 1 1" />
        </geometry>
      </visual>
      <collision group="other">
        <origin rpy="3.1415 -1.57080 0" xyz="-0.07 0 0"/>
        <geometry>
          <cylinder length="0.07" radius="0.055"/>
        </geometry>
      </collision>
   </link>

   <link name="limb4_link2">
      <inertial>
        <mass value="4.078540" />
        <origin xyz="0.066970 -0.090099 -0.000084" rpy="0 0 0" />
        <inertia ixx="0.010580" ixy="-0.008765" ixz="-0.000002" iyy="0.025014" iyz="0.000007" izz="0.031182" />
      </inertial>
      <visual>
        <origin xyz="0.000000 0 0" rpy="0 0 0" />
        <geometry>
           <mesh filename="./stl/robosim_roll_link.stl" scale="1 1 1" />
        </geometry>
      </visual>
      <collision group="other">
        <origin rpy="3.1415 -1.57080 0" xyz="0.065 -0.12 0"/>
        <geometry>
          <cylinder length="0.24" radius="0.055"/>
        </geometry>
      </collision>
      <collision group="other">
        <origin rpy="1.57080 1.57080 0.0" xyz="0.0 -0.035 0"/>
        <geometry>
          <cylinder length="0.075" radius="0.055"/>
        </geometry>
      </collision>
   </link>

   <link name="limb4_link3">
      <inertial>
        <mass value="0.428770" />
        <origin xyz="-0.050402 0.012816 0.000000" rpy="0 0 0" />
        <inertia ixx="0.000670" ixy="0.000062" ixz="0.000000" iyy="0.000955" iyz="0.000000" izz=" 0.000726" />
      </inertial>
      <visual>
        <origin xyz="0.000000 0 0" rpy="0 0 0" />
        <geometry>
           <mesh filename="./stl/robosim_pitch_link.stl" scale="1 1 1" />
        </geometry>
      </visual>
      <collision group="other">
        <origin rpy="3.1415 -1.57080 0" xyz="-0.07 0 0"/>
        <geometry>
          <cylinder length="0.07" radius="0.055"/>
        </geometry>
      </collision>
   </link>

   <link name="limb4_link4">
      <inertial>
        <mass value="4.078540" />
        <origin xyz="0.066970 -0.090099 -0.000084" rpy="0 0 0" />
        <inertia ixx="0.010580" ixy="-0.008765" ixz="-0.000002" iyy="0.025014" iyz="0.000007" izz="0.031182" />
      </inertial>
      <visual>
        <origin xyz="0.000000 0 0" rpy="0 0 0" />
        <geometry>
           <mesh filename="./stl/robosim_roll_link.stl" scale="1 1 1" />
        </geometry>
      </visual>
      <collision group="other">
        <origin rpy="3.1415 -1.57080 0" xyz="0.065 -0.12 0"/>
        <geometry>
          <cylinder length="0.24" radius="0.055"/>
        </geometry>
      </collision>
      <collision group="other">
        <origin rpy="1.57080 1.57080 0.0" xyz="0.0 -0.035 0"/>
        <geometry>
          <cylinder length="0.075" radius="0.055"/>
        </geometry>
      </collision>
   </link>

   <link name="limb4_link5">
      <inertial>
        <mass value="0.428770" />
        <origin xyz="-0.050402 0.012816 0.000000" rpy="0 0 0" />
        <inertia ixx="0.000670" ixy="0.000062" ixz="0.000000" iyy="0.000955" iyz="0.000000" izz=" 0.000726" />
      </inertial>
      <visual>
        <origin xyz="0.000000 0 0" rpy="0 0 0" />
        <geometry>
           <mesh filename="./stl/robosim_pitch_link.stl" scale="1 1 1" />
        </geometry>
      </visual>
      <collision group="other">
        <origin rpy="3.1415 -1.57080 0" xyz="-0.07 0 0"/>
        <geometry>
          <cylinder length="0.07" radius="0.055"/>
        </geometry>
      </collision>
   </link>

   <link name="limb4_link6">
      <inertial>
        <mass value="4.078540" />
        <origin xyz="0.066970 -0.090099 -0.000084" rpy="0 0 0" />
        <inertia ixx="0.010580" ixy="-0.008765" ixz="-0.000002" iyy="0.025014" iyz="0.000007" izz="0.031182" />
      </inertial>
      <visual>
        <origin xyz="0.000000 0 0" rpy="0 0 0" />
        <geometry>
           <mesh filename="./stl/robosim_roll_link.stl" scale="1 1 1" />
        </geometry>
      </visual>
      <collision group="other">
        <origin rpy="3.1415 -1.57080 0" xyz="0.105 -0.12 0"/>
        <geometry>
          <cylinder length="0.32" radius="0.055"/>
        </geometry>
      </collision>
      <collision group="other">
        <origin rpy="1.57080 1.57080 0.0" xyz="0.0 -0.035 0"/>
        <geometry>
          <cylinder length="0.075" radius="0.055"/>
        </geometry>
      </collision>
   </link>

   <link name="limb4_ftadapter_link">
      <inertial>
        <mass value="0.253735" />
        <origin xyz="-0.00531 -0.00060 -0.001873" rpy="0 0 0" />
        <inertia ixx="0.00042" ixy="0.00000" ixz="0.0000" iyy="0.00024" iyz="0.00000" izz="0.00023" />
      </inertial>
      <visual>
         <origin xyz="0 0 0" rpy="0 0 0" />
         <geometry>
            <mesh filename="./stl/robosim_ft_adapter.stl" scale="1 1 1" />
         </geometry>
      </visual>   
   </link>
   
   <link name="limb4_ft_link">
      <inertial>
        <mass value="0.195418" />
        <origin xyz="-0.000135 0.000118 0.000084" rpy="0 0 0" />
        <inertia ixx="0.000086" ixy="0.000" ixz="0.0000" iyy="0.000056" iyz="0.000000" izz="0.000057" />
      </inertial>
      <visual>
         <origin xyz="0.0 0.0 0.0" rpy="0.00000 0.00000 0.00000" />
         <geometry>
            <mesh filename="./stl/robosim_force_torque_sensor.stl" scale="1 1 1" />
         </geometry>
      </visual>   
   </link>

   <link name="limb4_link7">
      <inertial>
        <mass value="3.1775" />
        <origin xyz="-0.005260 0.042308 0.000088" rpy="0 0 0" />
        <inertia ixx="0.010977" ixy="0.000702" ixz="0.000026" iyy="0.005330" iyz="-0.000028" izz=" 0.011405" />
      </inertial>
      <visual>
        <origin xyz="0.12024 0 0" rpy="0 0 0" />
        <geometry>
           <mesh filename="./stl/robosim_wheel_mount.stl" scale="1 1 1" />
        </geometry>
      </visual>
      <collision group="other">
        <origin rpy="-1.57080 0 0" xyz="0.12024 0.02 0"/>
        <geometry>
          <cylinder length="0.175" radius="0.0545"/>
        </geometry>
      </collision>
   </link>

  <link name="limb4_link8">
    <inertial>
      <mass value="1.499326" />
      <origin xyz="0.0 0.0 -0.000229" rpy="0 0 0" />
      <inertia ixx="0.006378" ixy="0.000000" ixz="0.000000" iyy="0.006377" iyz="0.000000" izz="0.009155" />
    </inertial>
    <visual>
      <origin xyz="0.0 0 0" rpy="0 0 0" />
      <geometry>
         <mesh filename="./stl/robosim_wheel.stl" scale="1 1 1" />
      </geometry>
    </visual>
    <collision group="other">
      <origin xyz="0.0 0 0" rpy="0 0 0" />
      <geometry>
         <cylinder length="0.123" radius="0.12" />
      </geometry>
    </collision>
   </link>

   <joint name="limb4_joint0" type="fixed">
      <origin xyz="0.29326 -0.20940 0.03650"  rpy="0.00000 -1.57080 3.40339" />
      <parent link="torso" />
      <child link="limb4_link0" />
      <axis xyz="0 0 1" />
      <limit effort="1000.0" lower="-3.4906" upper="3.4906" velocity="0.5"/>
      <dynamics damping="0" friction="0"/>
   </joint>

   <joint name="limb4_joint1" type="revolute">
      <origin xyz="0.17203 0.00000 0.00000"  rpy="3.14159 -0.00000 0.00000" />
      <axis xyz="1 0 0" />
      <parent link="limb4_link0" />
      <child link="limb4_link1" />
      <limit effort="1000.0" lower="-6.283185" upper="6.283185" velocity="0.5"/>
      <dynamics damping="1.000000" friction="10.000000"/>
   </joint>

   <joint name="limb4_joint2" type="revolute">
      <origin xyz="0.00000 0.00000 0.00000"  rpy="0.00000 -0.00000 0.00000" />
      <axis xyz="0 -1 0" />
      <parent link="limb4_link1" />
      <child link="limb4_link2" />
      <limit effort="1000.0" lower="-6.283185" upper="6.283185" velocity="0.5"/>
      <dynamics damping="1.000000" friction="10.000000"/>
   </joint>

   <joint name="limb4_joint3" type="revolute">
      <origin xyz="0.28650 -0.11700 0.00000"  rpy="0.00000 -0.00000 0.00000" />
      <axis xyz="1 0 0" />
      <parent link="limb4_link2" />
      <child link="limb4_link3" />
      <limit effort="1000.0" lower="-6.283185" upper="6.283185" velocity="0.5"/>
      <dynamics damping="1.000000" friction="10.000000"/>
   </joint>

   <joint name="limb4_joint4" type="revolute">
      <origin xyz="0.00000 0.00000 0.00000"  rpy="0.00000 -0.00000 0.00000" />
      <axis xyz="0 -1 0" />
      <parent link="limb4_link3" />
      <child link="limb4_link4" />
      <limit effort="1000.0" lower="-6.283185" upper="6.283185" velocity="0.5"/>
      <dynamics damping="1.000000" friction="10.000000"/>
   </joint>

   <joint name="limb4_joint5" type="revolute">
      <origin xyz="0.28650 -0.11700 0.00000"  rpy="0.00000 -0.00000 0.00000" />
      <axis xyz="1 0 0" />
      <parent link="limb4_link4" />
      <child link="limb4_link5" />
      <limit effort="1000.0" lower="-6.283185" upper="6.283185" velocity="0.5"/>
      <dynamics damping="1.000000" friction="10.000000"/>
   </joint>
   
   <joint name="limb4_joint6" type="revolute">
      <origin xyz="0.00000 0.00000 0.00000"  rpy="0.00000 -0.00000 0.00000" />
      <axis xyz="0 -1 0" />
      <parent link="limb4_link5" />
      <child link="limb4_link6" />
      <limit effort="1000.0" lower="-6.283185" upper="6.283185" velocity="0.5"/>
      <dynamics damping="1.000000" friction="10.000000"/>
   </joint>
   
   <joint name="limb4_ftadapter_joint" type="fixed">
      <origin xyz="0.20739 -0.121 0.0"  rpy="0.00000 0.00000 0.00000" />
      <axis xyz="1 0 0" />
      <parent link="limb4_link6" />
      <child link="limb4_ftadapter_link" />
   </joint>  

   <joint name="limb4_ft_joint" type="fixed">
      <origin xyz="0.0263755 0.0 0.0"  rpy="0.00000 0.00000 0.00000" />
      <axis xyz="1 0 0" />
      <parent link="limb4_ftadapter_link" />
      <child link="limb4_ft_link" />
   </joint>
   
   <joint name="limb4_joint7" type="revolute">
      <origin xyz="0.19250 -0.11700 0.00000"  rpy="0.00000 -0.00000 0.00000" />
      <axis xyz="1 0 0" />
      <parent link="limb4_link6" />
      <child link="limb4_link7" />
      <limit effort="1000.0" lower="-6.283185" upper="6.283185" velocity="0.5"/>
      <dynamics damping="1.000000" friction="10.000000"/>
   </joint>

   <joint name="limb4_joint8" type="revolute">
      <origin xyz="0.12024 0.172 0.0"  rpy="-1.57 0.0 0.00" />
      <axis xyz="0 0 1" />
      <parent link="limb4_link7" />
      <child link="limb4_link8" />
      <limit effort="1000.0" lower="-2e19" upper="2e19" velocity="0.5"/>
      <dynamics damping="1.000000" friction="10.000000"/>
   </joint>

</robot>
